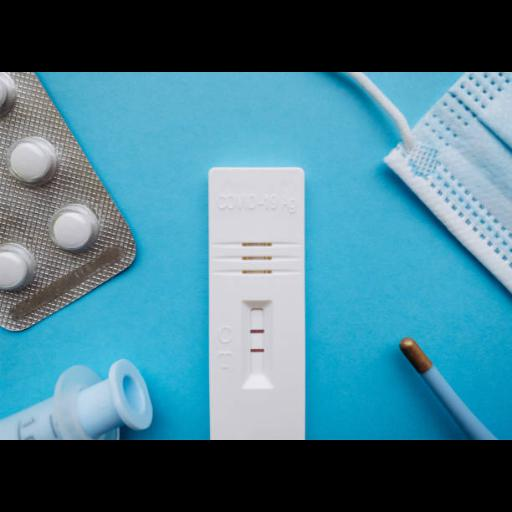Pos: (208, 166, 304, 440)
